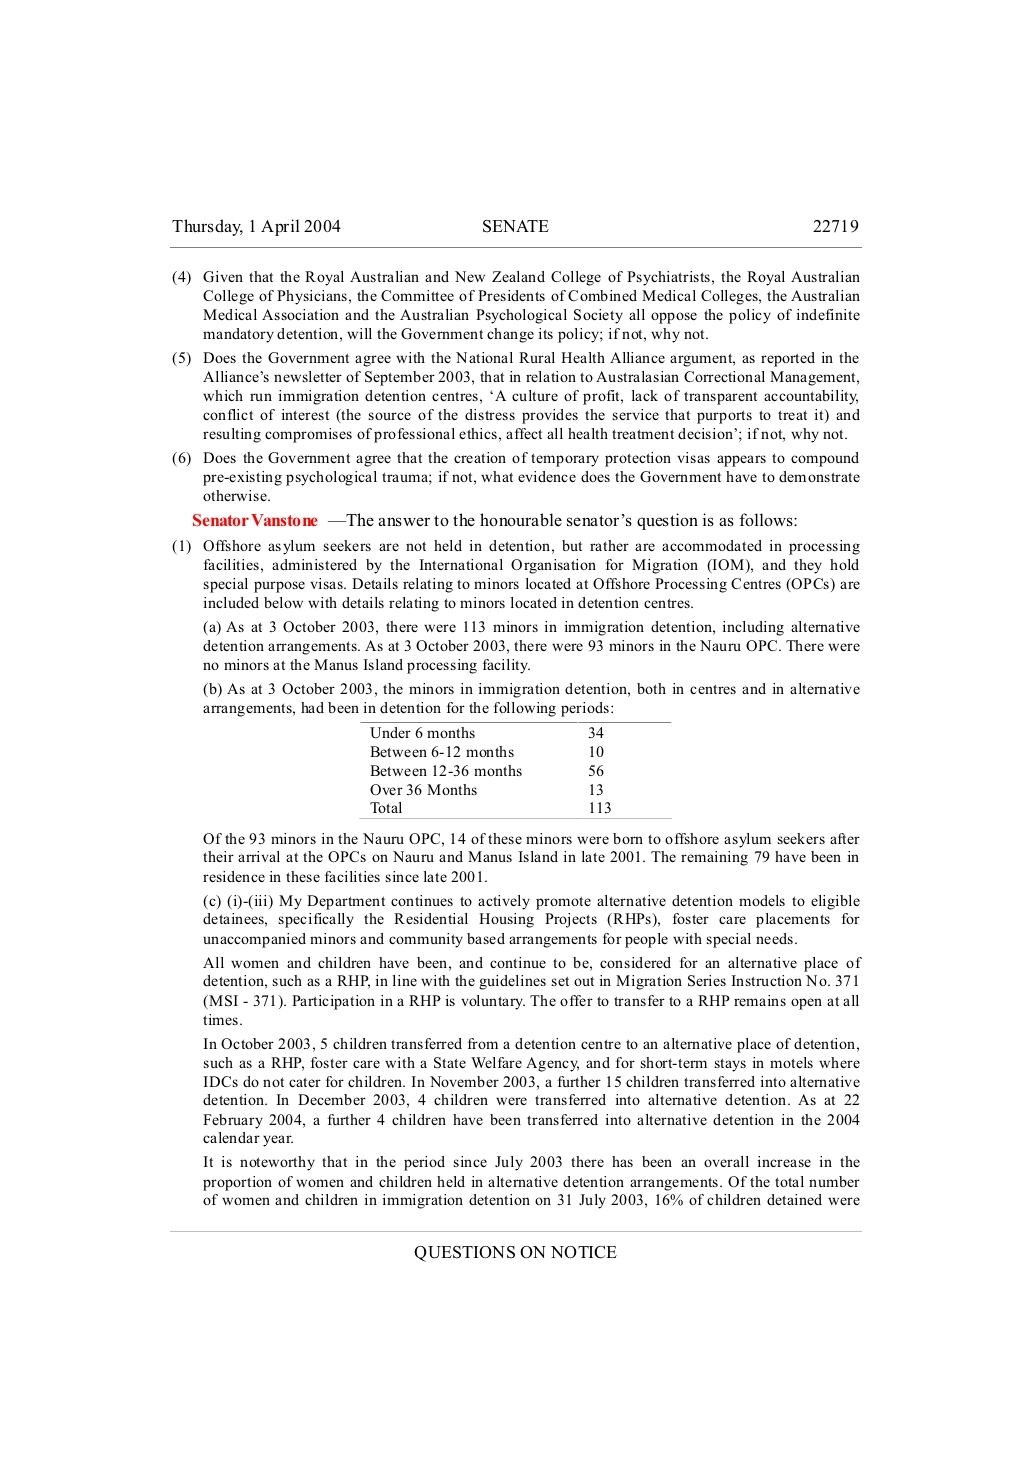Table: (359, 722, 671, 818)
